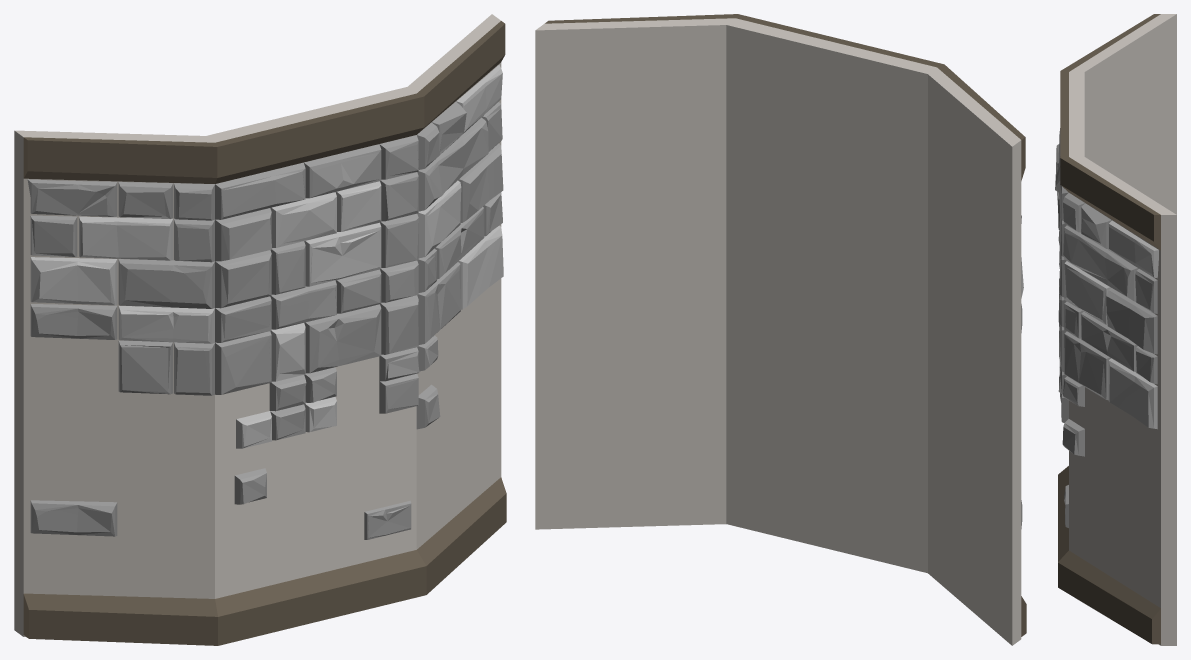
The model's file is _BALKON_02_1.fbx.
3 views of the same model, side by side, from view 1: azimuth 30°, elevation 25°; view 2: azimuth 150°, elevation 25°; view 3: azimuth 270°, elevation 25° (orthographic). The views are drawn at different scales.
Parts seen in each view (by area): view 1: BALKON_02_1; view 2: BALKON_02_1; view 3: BALKON_02_1.
Boxes of the visible parts, left/top/right/bottom form: BALKON_02_1: left=14, top=14, right=506, bottom=645; BALKON_02_1: left=535, top=14, right=1026, bottom=645; BALKON_02_1: left=1055, top=14, right=1176, bottom=645.
Size of the model in its own units: 300 by 300 by 76.95.
